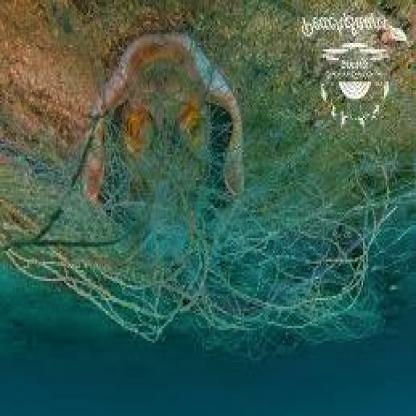net: (1, 2, 404, 337)
